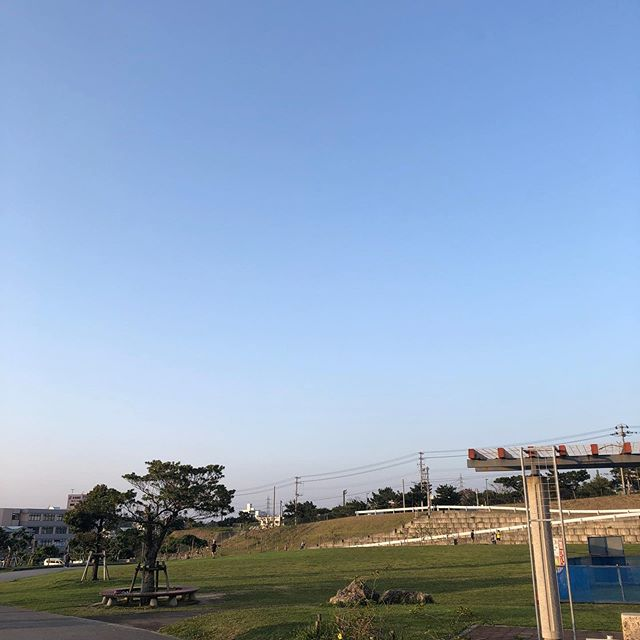grass: (207, 544, 542, 639)
rocks: (335, 569, 437, 605)
sky: (4, 1, 640, 483)
tree: (59, 448, 232, 611)
